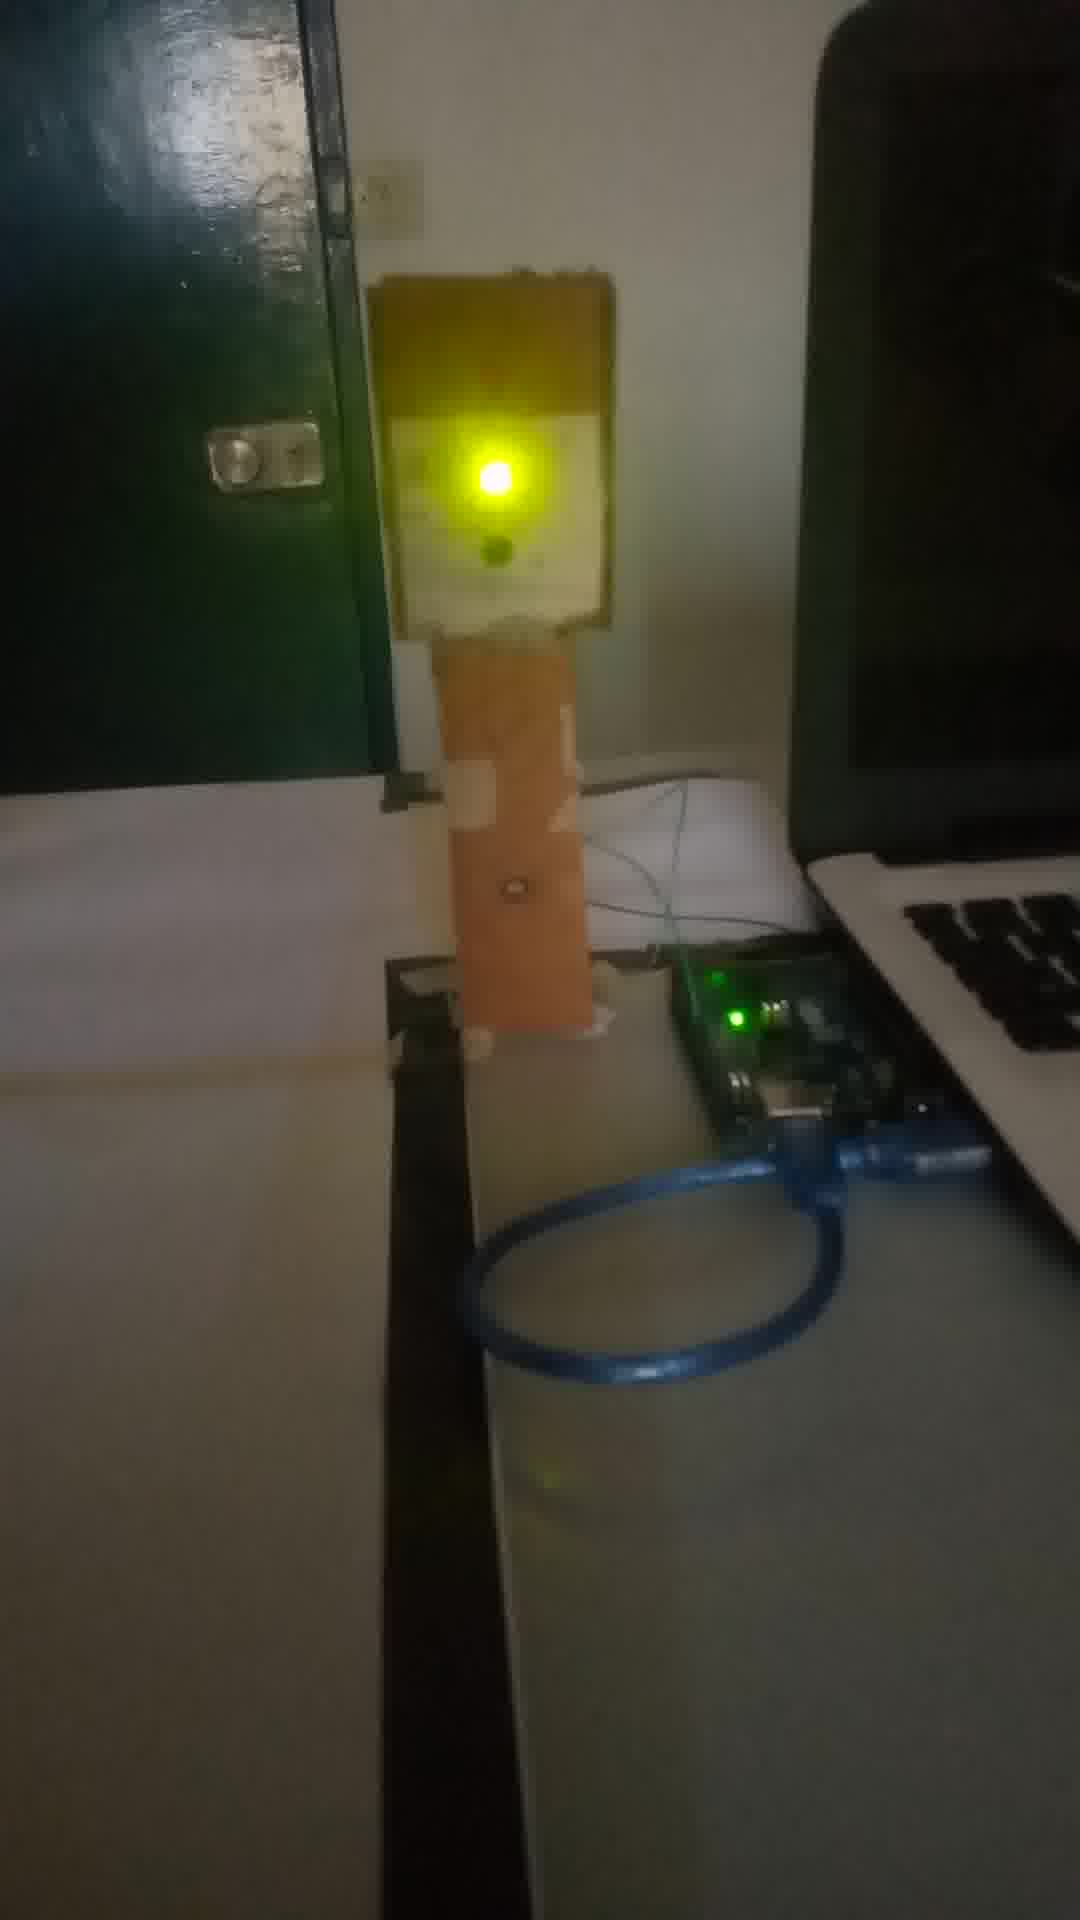yellow: (371, 289, 613, 632)
